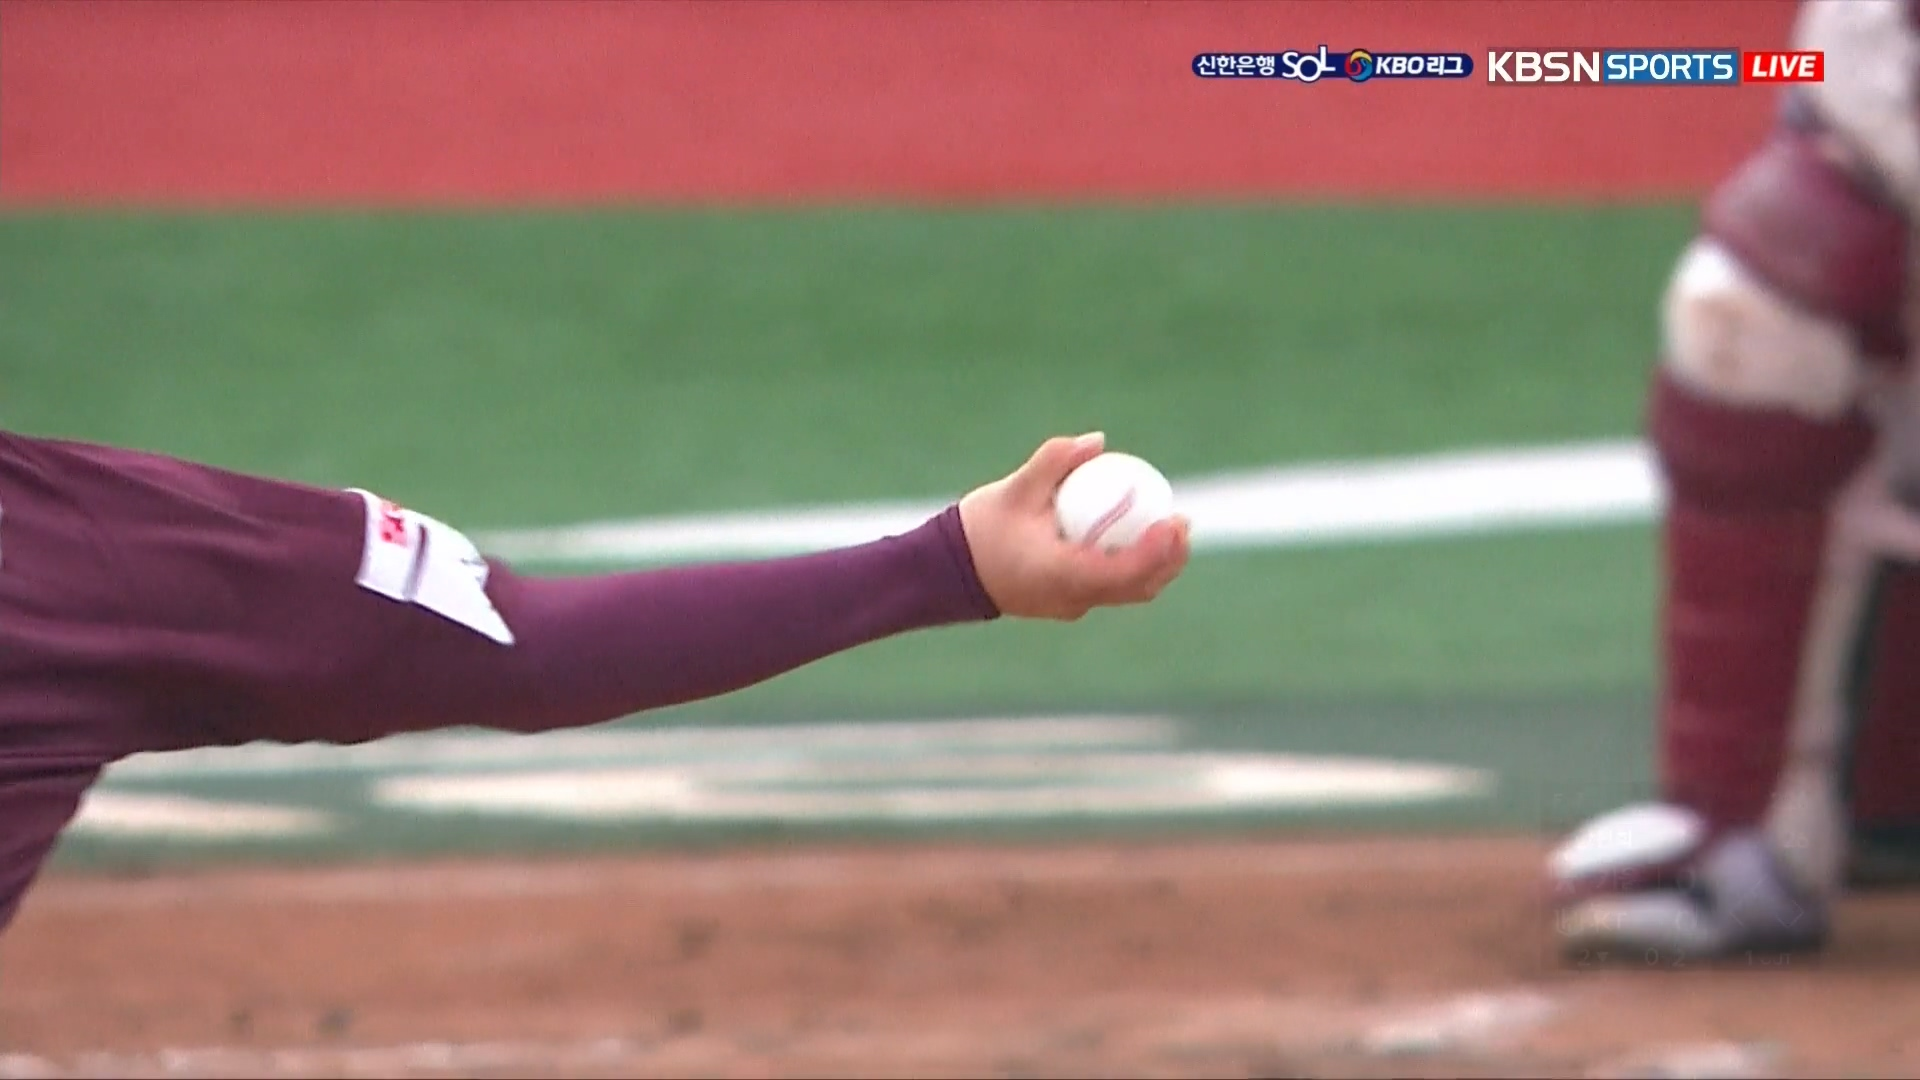zoomin_hand: (510, 429, 1203, 735)
